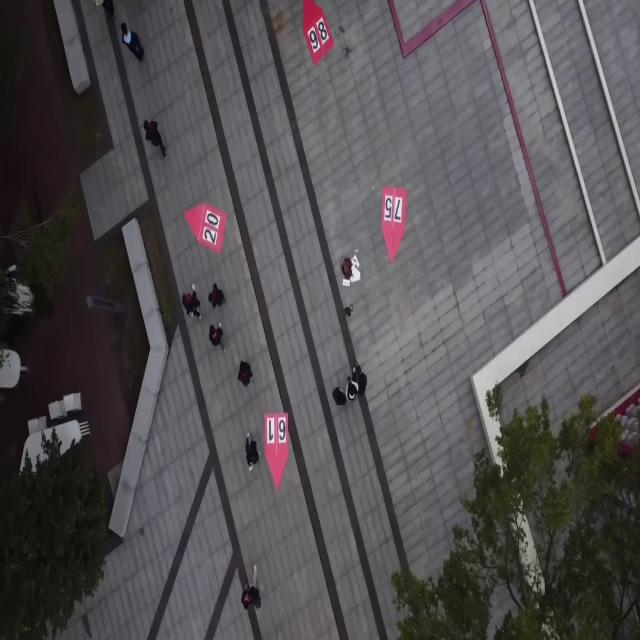-sign-: (293, 0, 341, 74), (181, 195, 229, 262), (378, 182, 412, 270), (261, 409, 294, 495)
